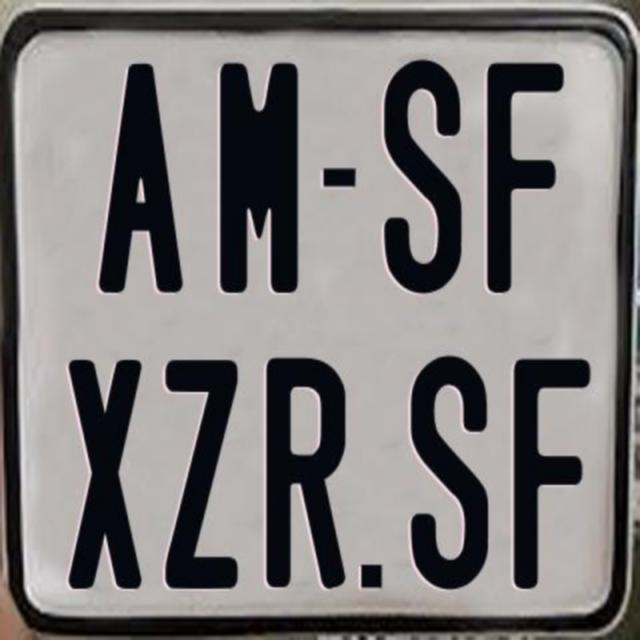A: (99, 64, 182, 298)
F: (486, 59, 570, 291), (514, 355, 598, 587)
M: (219, 59, 301, 293)
R: (264, 358, 346, 596)
S: (381, 56, 463, 296), (406, 350, 484, 586)
X: (64, 360, 142, 592)
Z: (162, 355, 238, 592)
